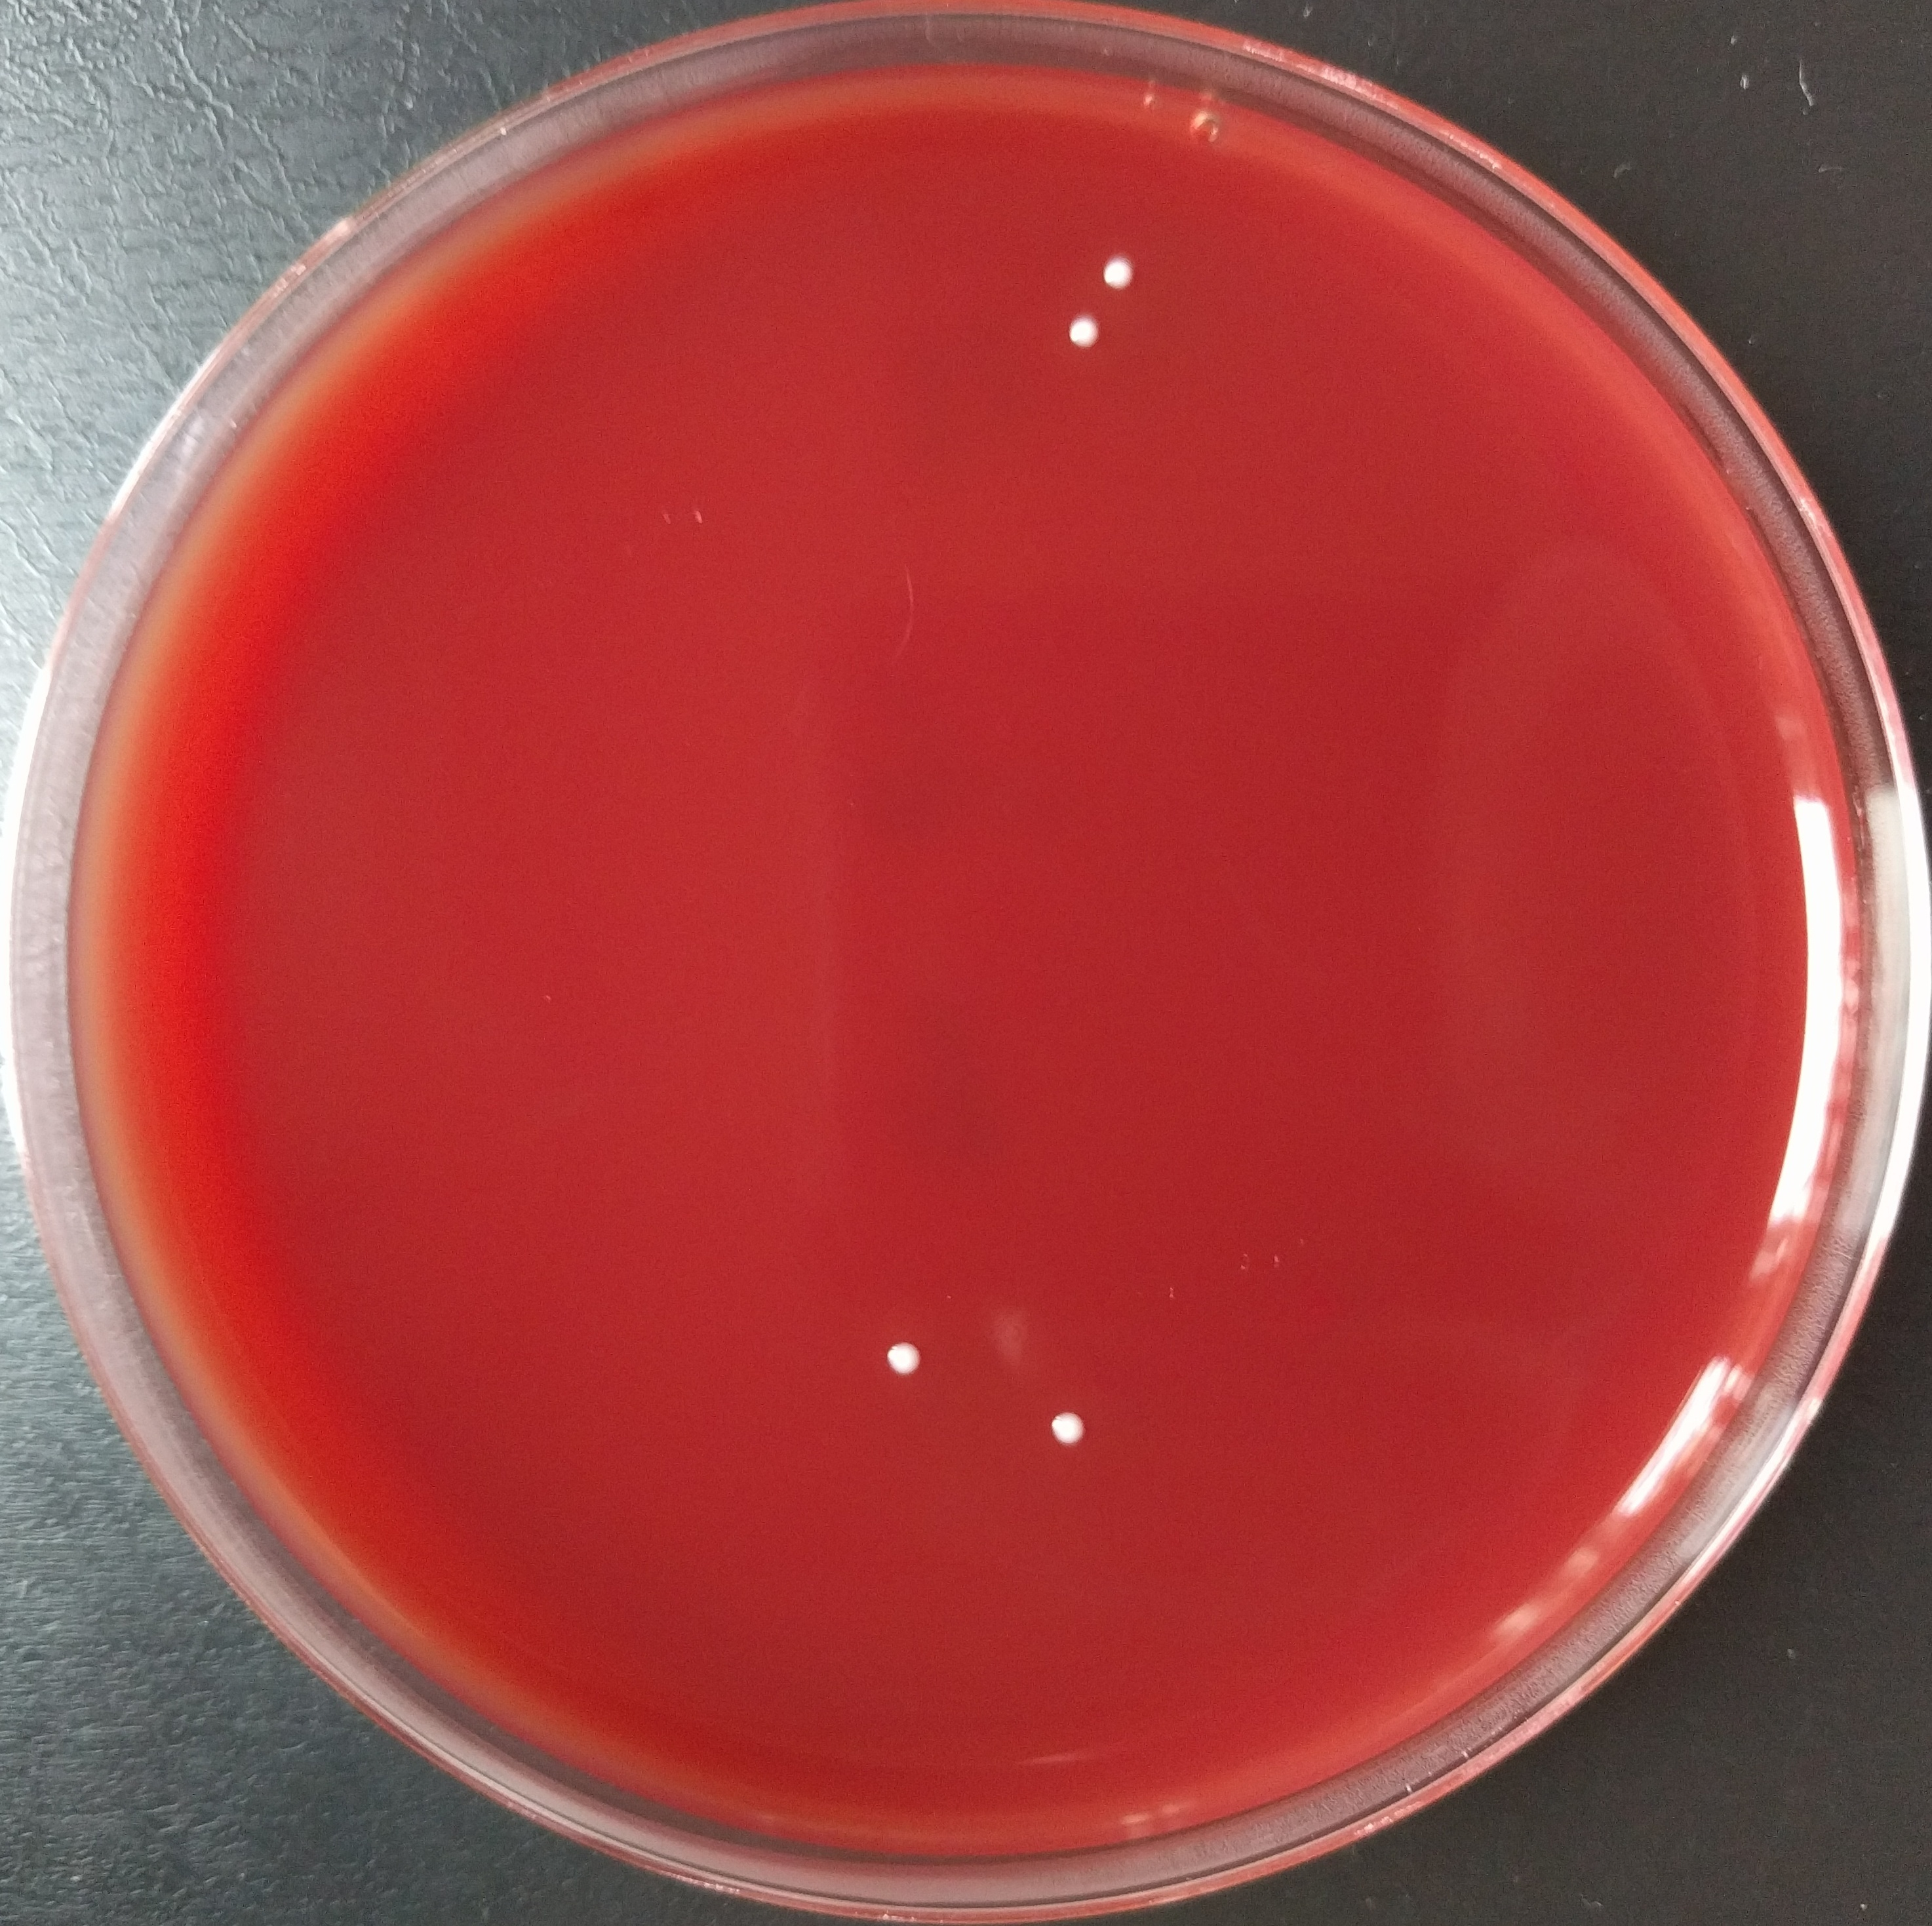sp24: (868, 1328, 937, 1392), (1037, 1402, 1099, 1459), (1090, 245, 1149, 295), (1059, 310, 1113, 362)
